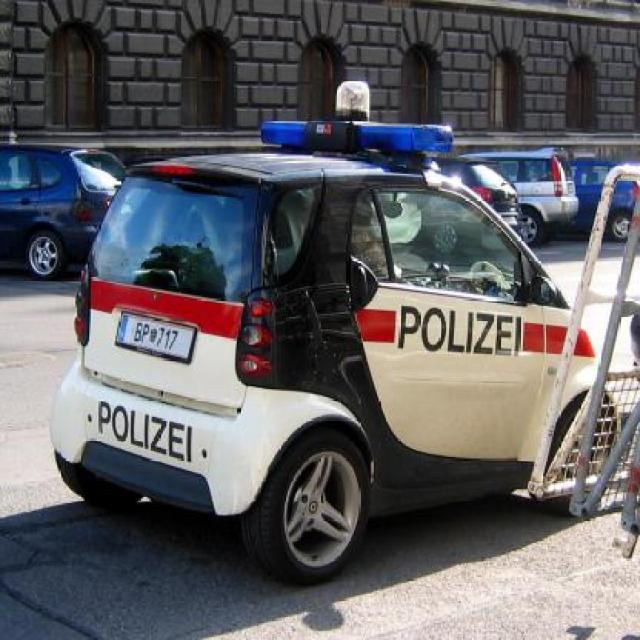Licenseplate: (111, 307, 202, 355)
